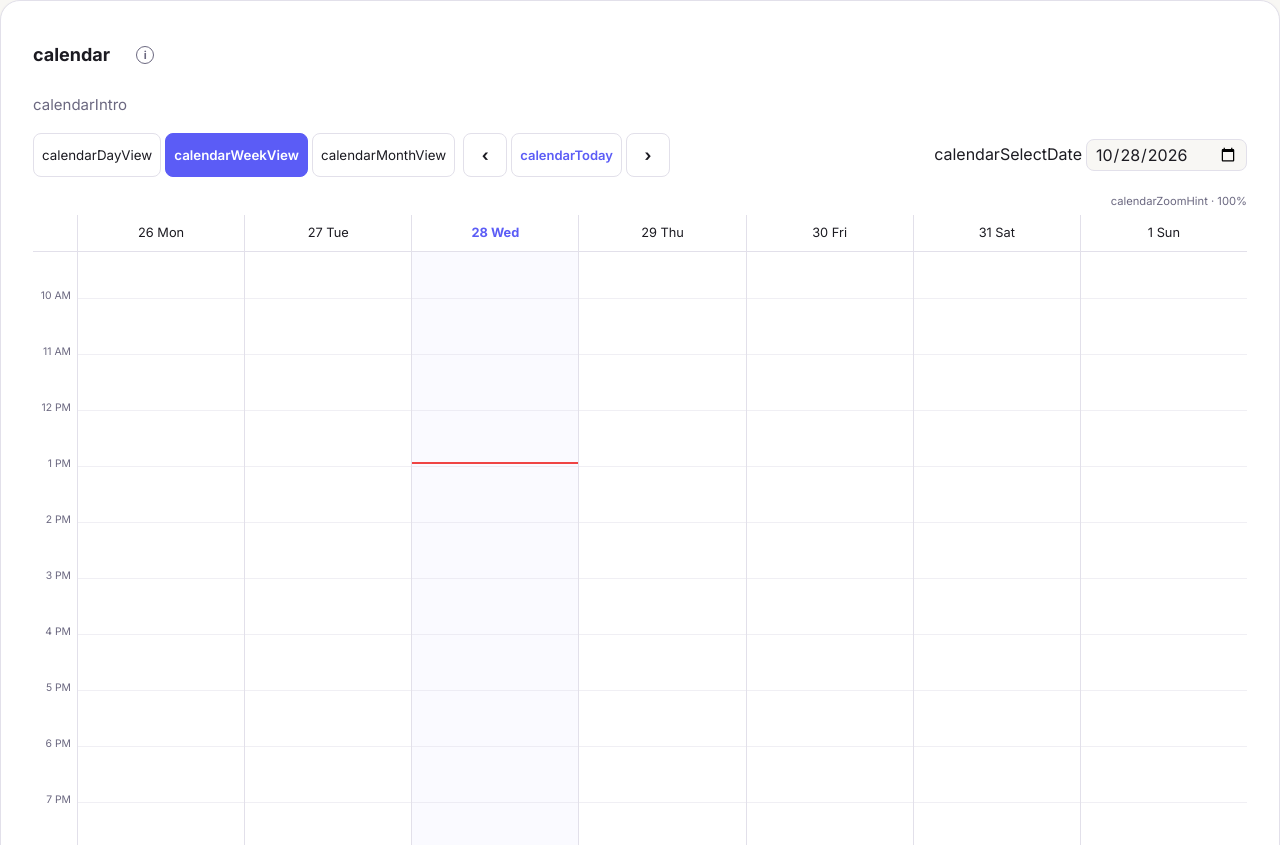
Scenario: CalendarView › opens a day from the month grid with the keyboard
(page scrolled)
Type "2026-03-01" into the date field labelled "calendarSelectDate".
click(1166, 155); type("2026-03-01")  # box [1086, 139, 1247, 171]
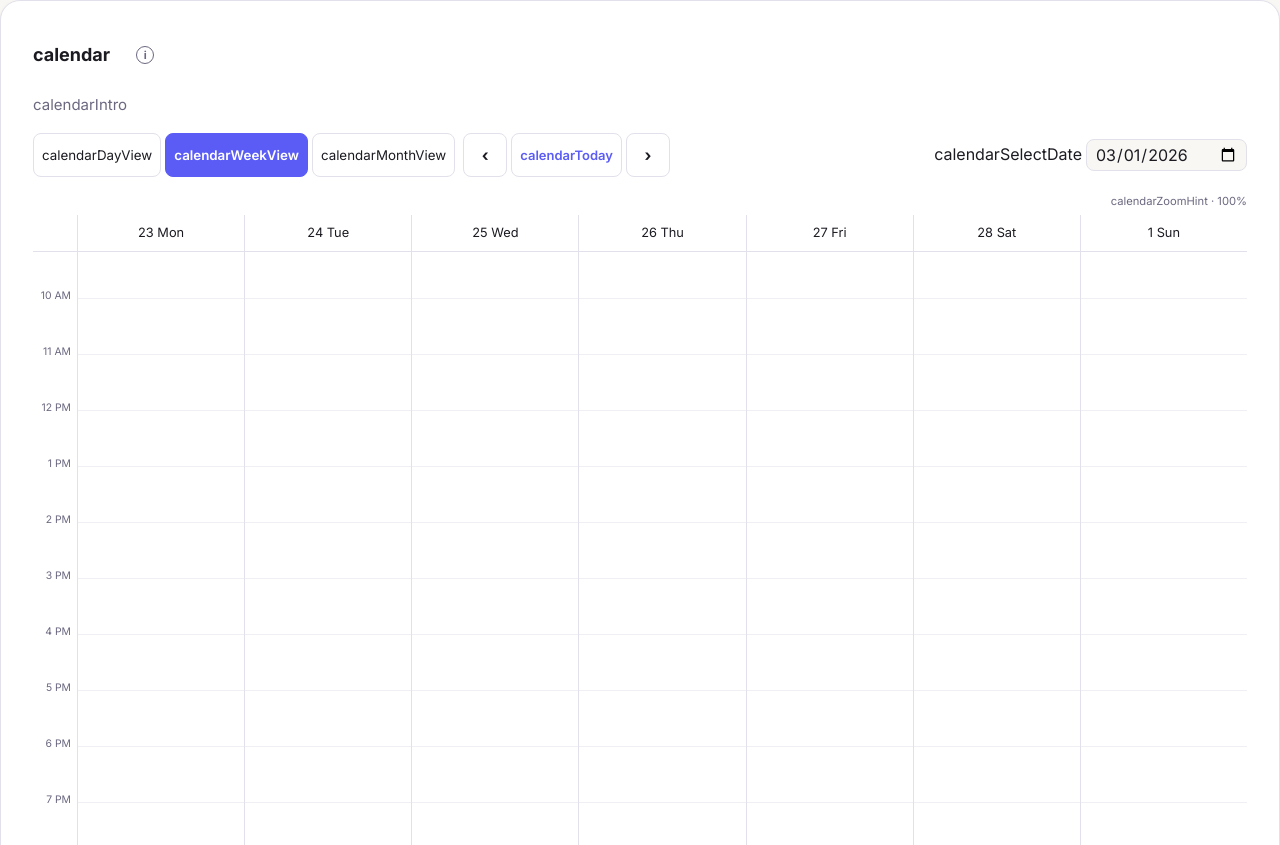
Click the button "calendarMonthView".
click(384, 155)  # box [312, 133, 455, 177]
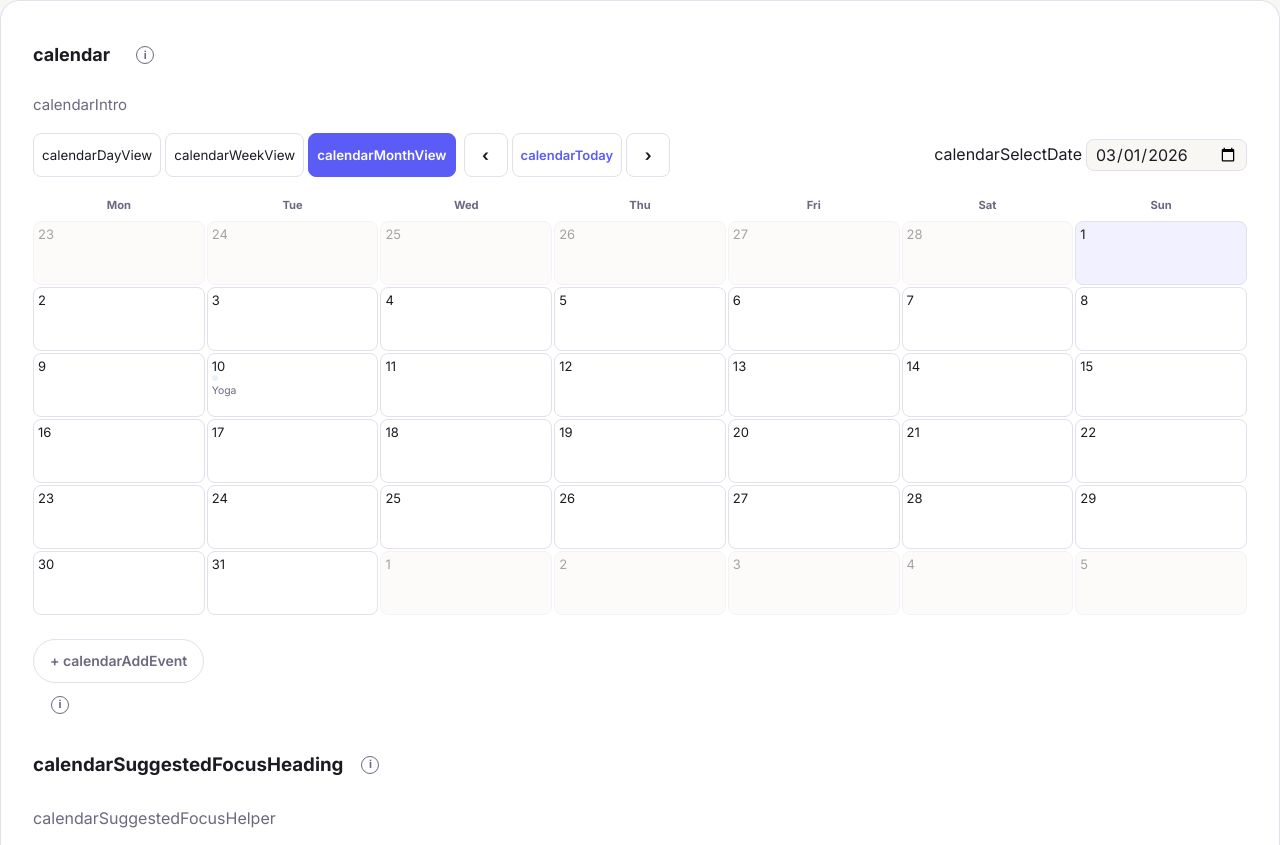
Expected: the number of buttons "23" is 42
Press Enter in the button "10 Yoga", box [207, 353, 378, 417]
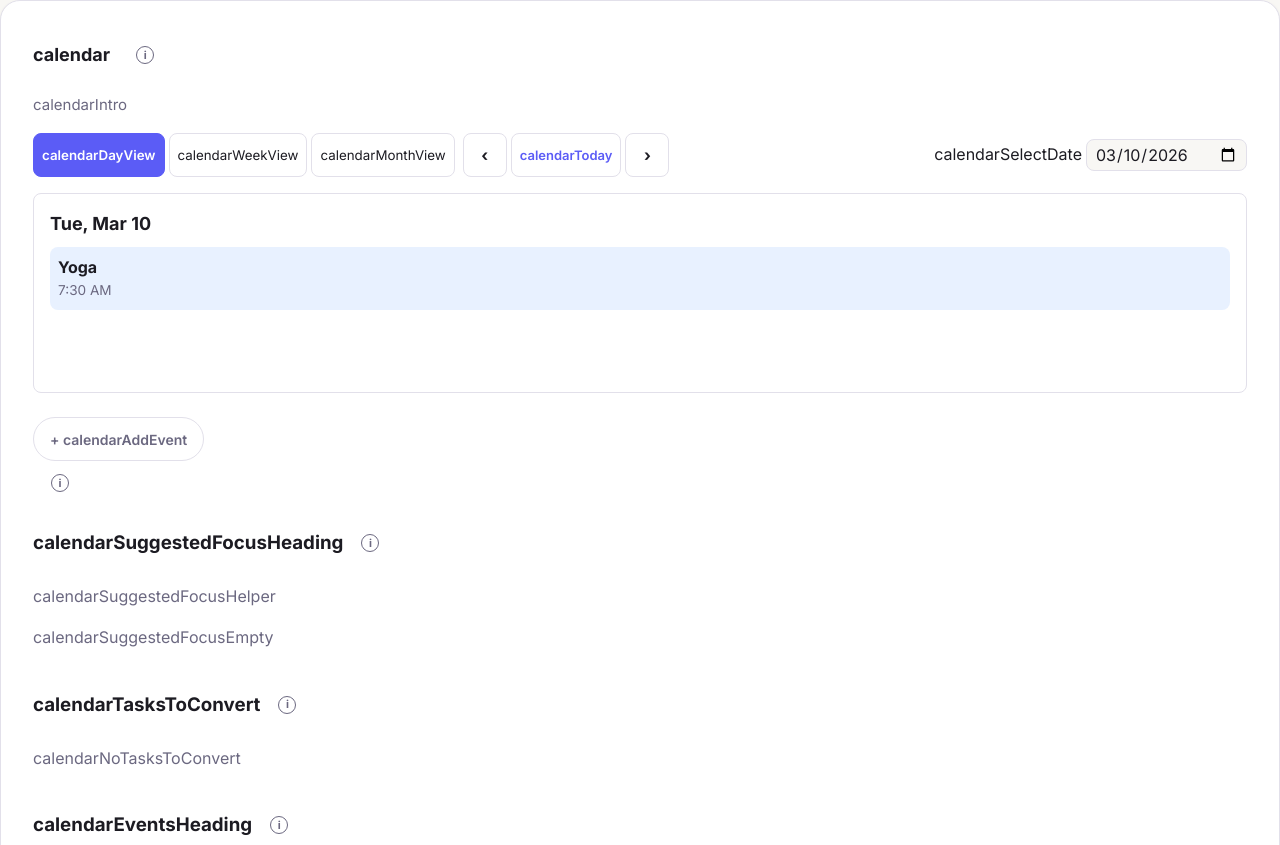
Expected: the date field labelled "calendarSelectDate" holds "2026-03-10", [1086, 139, 1247, 171]
